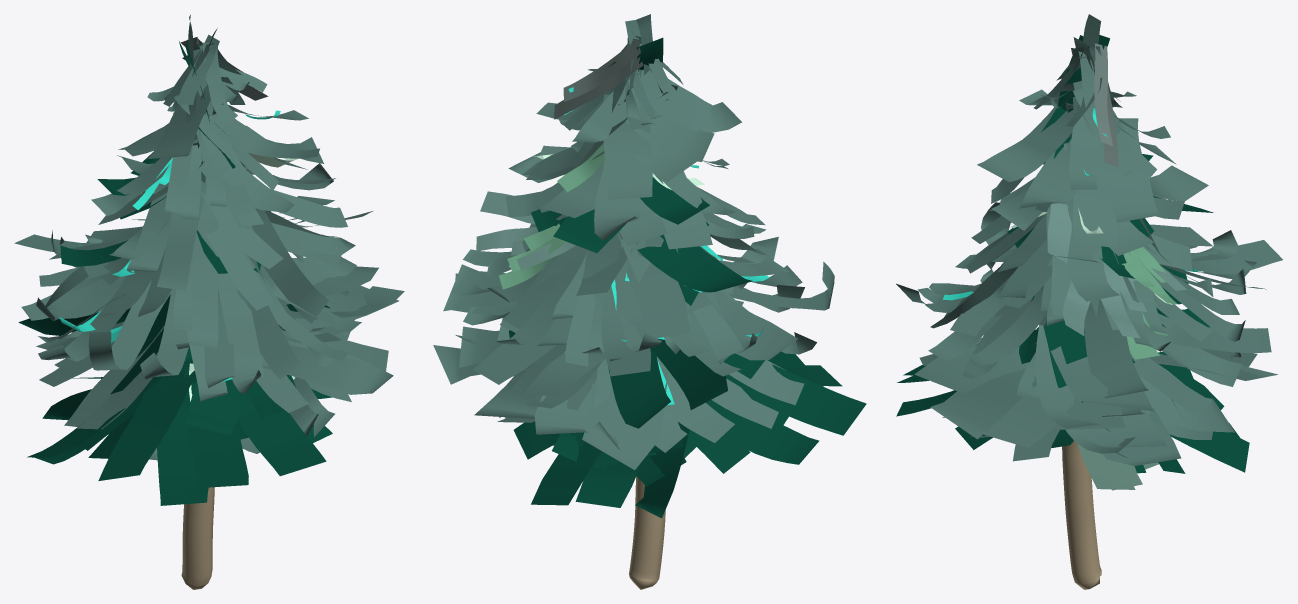
File: Albero_pino.fbx
3 renders of one model, left to right at view 1: azimuth 30°, elevation 25°; view 2: azimuth 150°, elevation 25°; view 3: azimuth 270°, elevation 25°, orthographic.
Parts seen in each view (by area): view 1: brush_Ink_g48_b0.001; view 2: brush_Ink_g48_b0.001; view 3: brush_Ink_g48_b0.001.
Part boxes in pixels (left/top/right/bottom): brush_Ink_g48_b0.001: left=14, top=14, right=404, bottom=589; brush_Ink_g48_b0.001: left=433, top=14, right=866, bottom=589; brush_Ink_g48_b0.001: left=896, top=14, right=1282, bottom=589.
Size of the model in its own units: 54.56 by 78.1 by 48.12.
